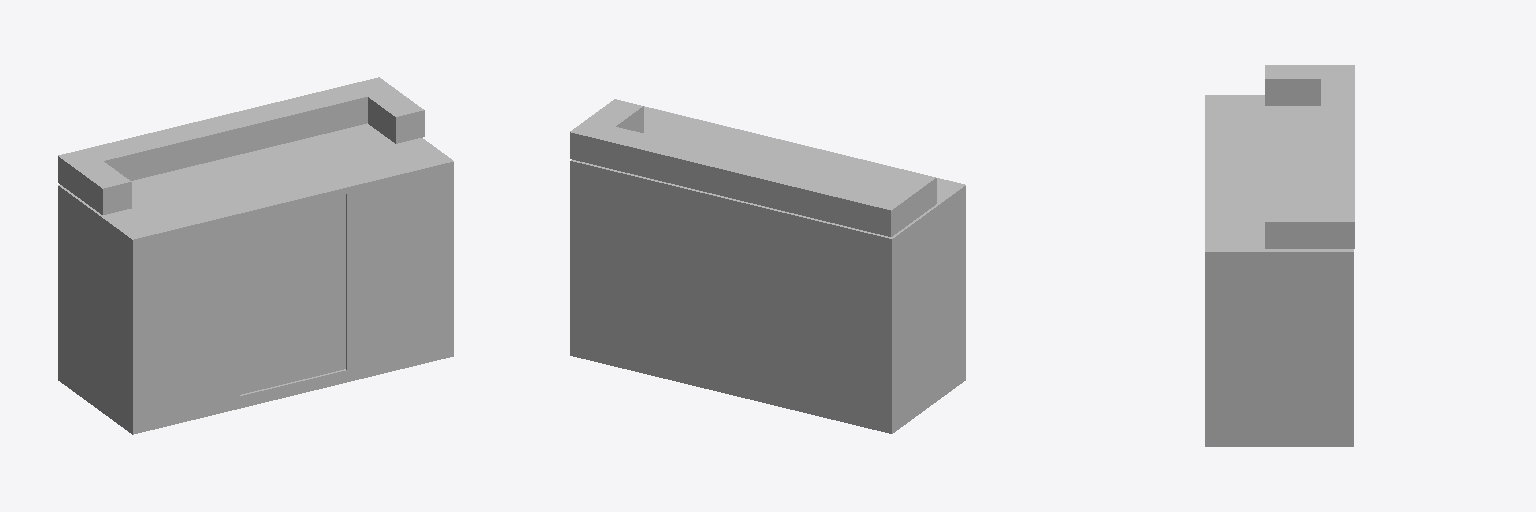
File: radio.obj
The picture shows the model from 3 angles: view 1: azimuth 30°, elevation 25°; view 2: azimuth 150°, elevation 25°; view 3: azimuth 270°, elevation 25°; orthographic projection.
Size of the model in its own units: 2 by 1.33 by 0.8081.